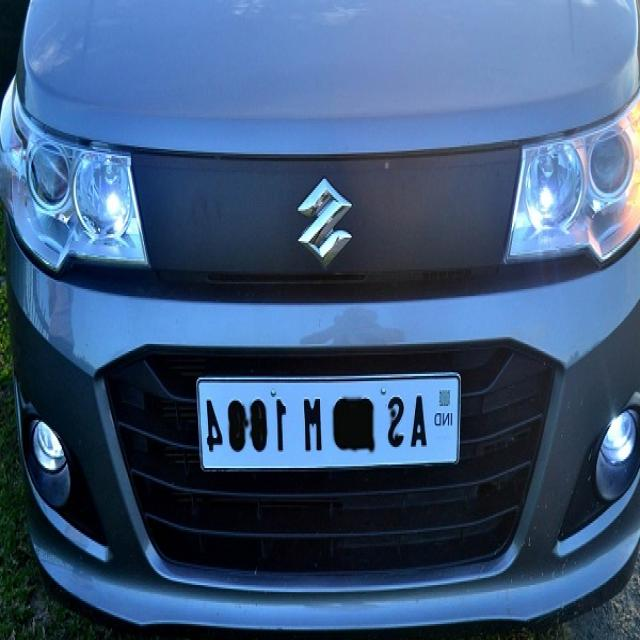number-plate: (176, 349, 471, 485)
